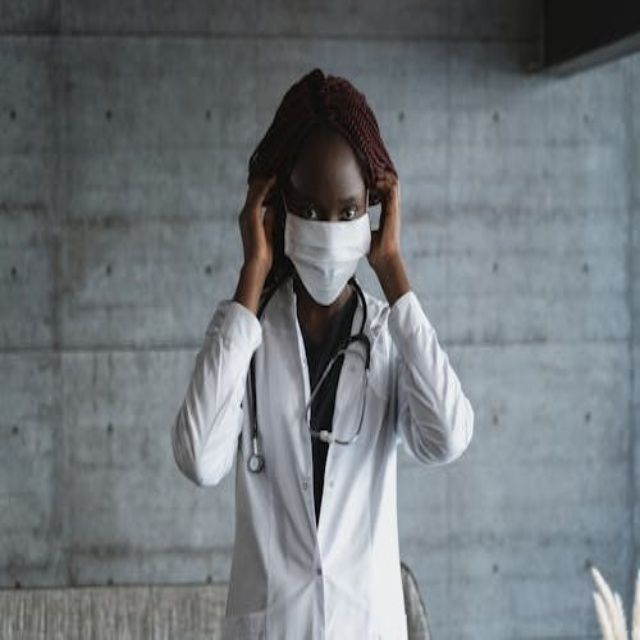Mascara: (282, 195, 373, 304)
Sin_gafas: (296, 196, 364, 231)
Sin_guantes: (233, 165, 280, 267), (371, 163, 407, 261)
